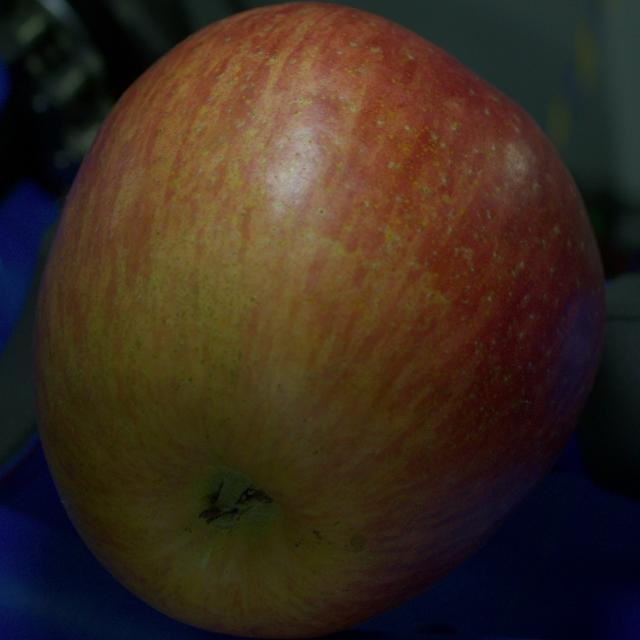apple: (33, 3, 605, 638)
